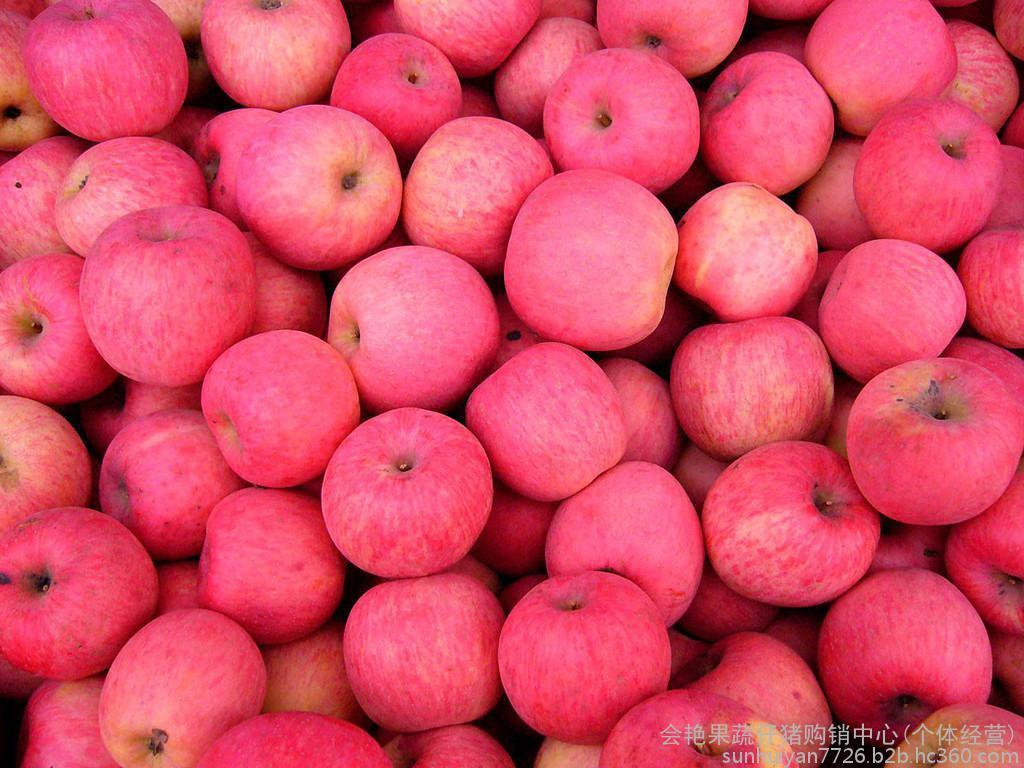apple: (500, 167, 680, 352), (81, 199, 259, 379), (845, 344, 1019, 528), (815, 567, 993, 743), (701, 434, 882, 607), (500, 568, 681, 741), (321, 412, 496, 578), (203, 327, 375, 493), (327, 240, 499, 406), (1, 510, 160, 687), (546, 457, 703, 633), (106, 603, 269, 766), (341, 576, 504, 739), (468, 340, 630, 504), (236, 105, 401, 265), (401, 105, 558, 267), (19, 1, 193, 145), (669, 313, 837, 458), (194, 490, 346, 640), (544, 51, 702, 195), (95, 405, 240, 560), (814, 234, 965, 381), (856, 100, 1007, 247), (804, 1, 955, 147), (701, 49, 838, 194), (58, 134, 206, 253), (1, 250, 108, 403), (200, 1, 348, 111)
